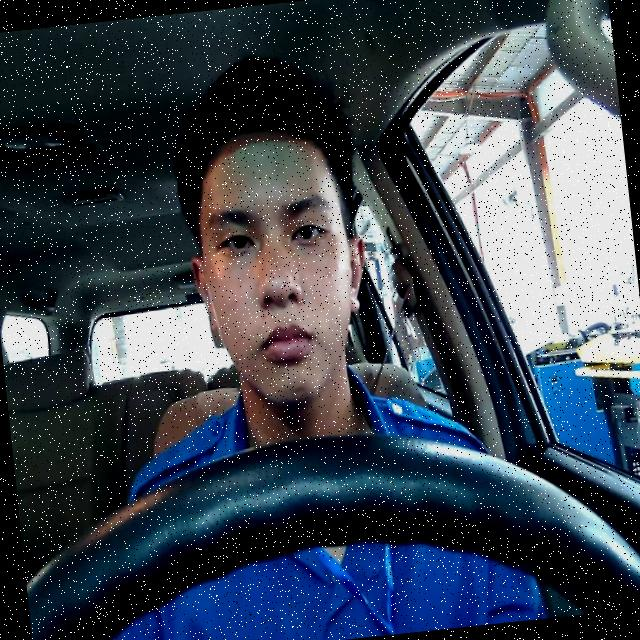focused: (177, 123, 378, 414)
